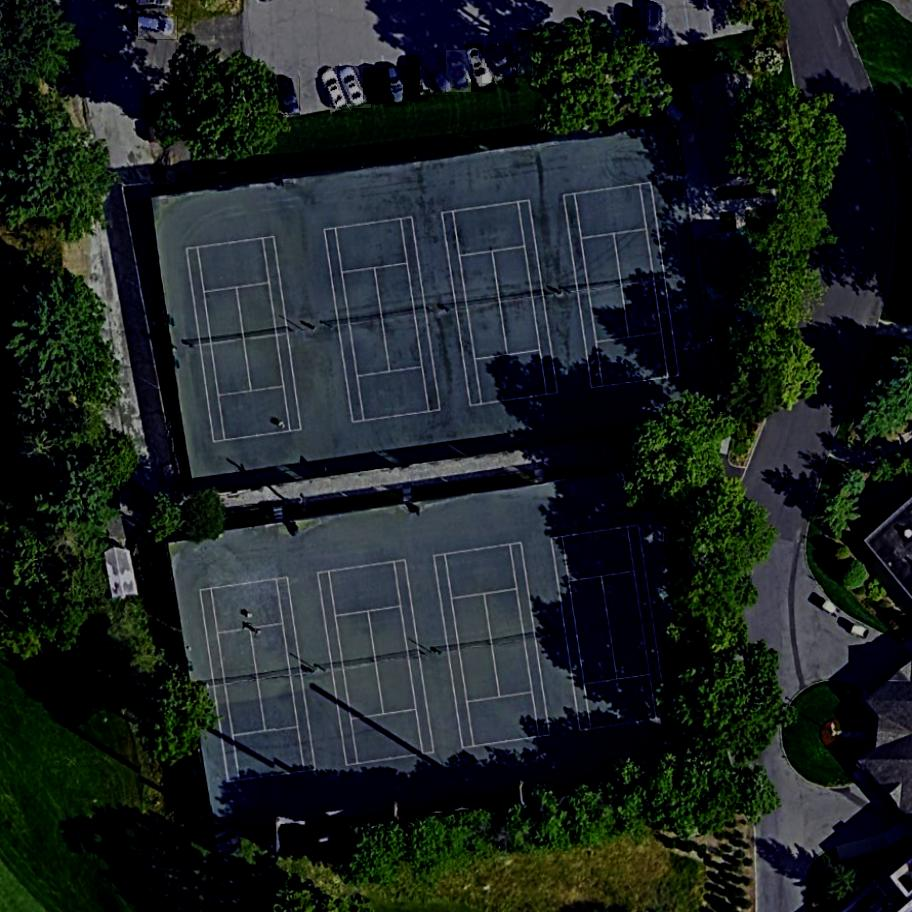large-vehicle: (136, 17, 179, 41)
small-vehicle: (317, 66, 353, 113), (483, 37, 519, 83), (464, 45, 497, 93), (420, 53, 456, 97), (338, 67, 372, 111), (446, 50, 472, 94), (384, 66, 411, 108), (406, 56, 428, 102), (278, 78, 304, 116), (364, 68, 389, 106), (513, 37, 535, 77), (646, 4, 664, 43), (626, 9, 638, 46)
